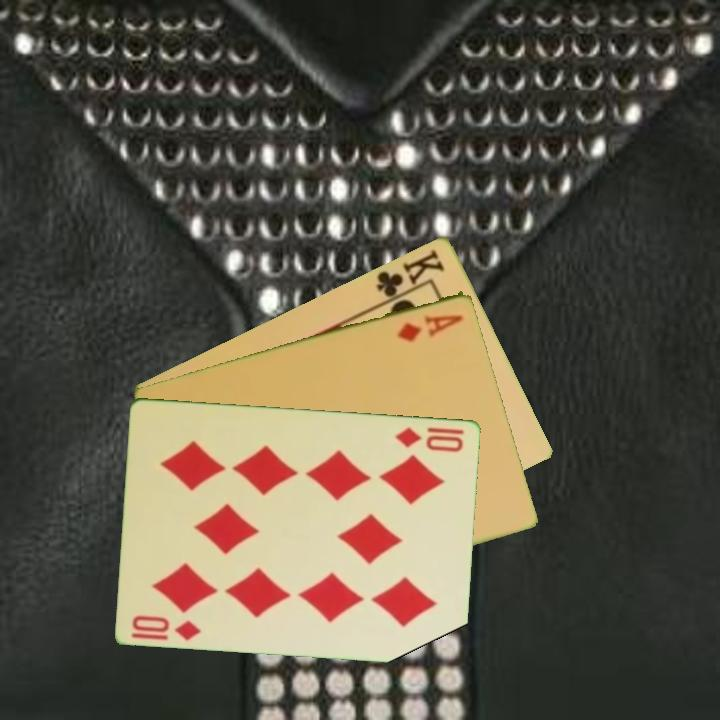10d: (128, 611, 205, 643), (393, 423, 467, 455)
Ad: (394, 310, 467, 344)
Kc: (373, 245, 448, 307)
